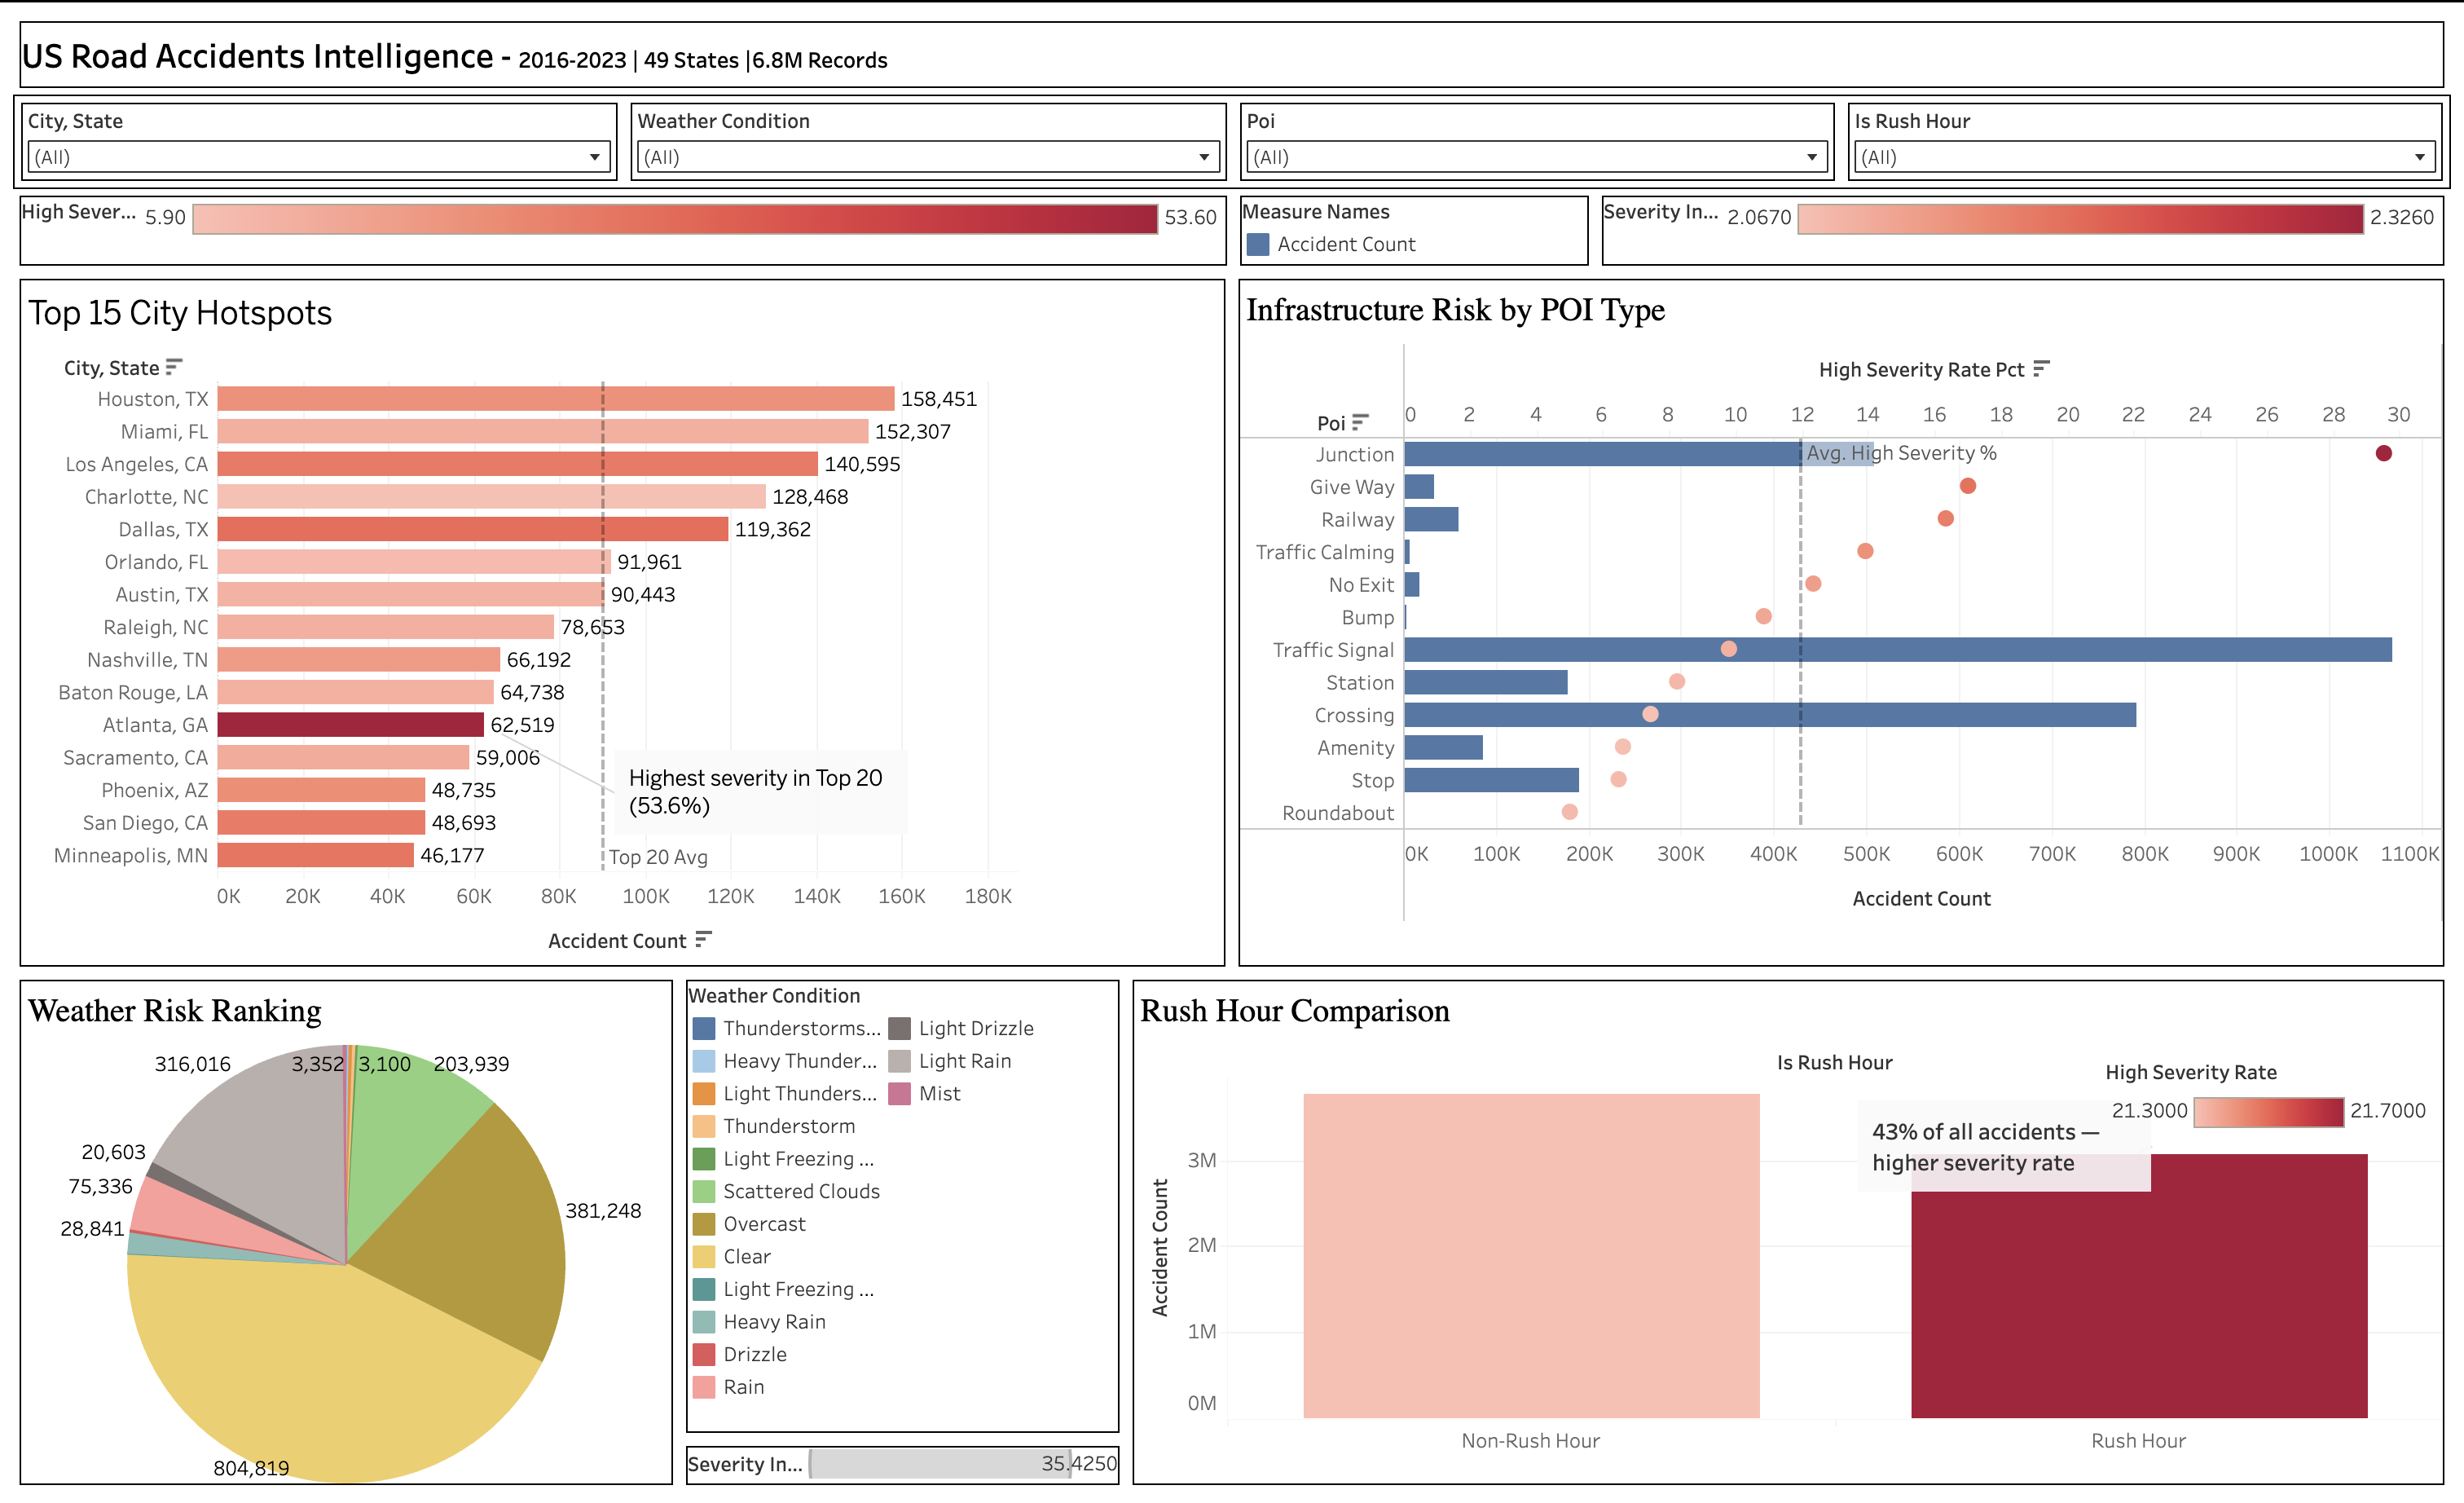

What the dashboard file says about the page in this screenshot:
{"tool":"tableau","page":{"name":"Dashboard 2","canvas":[1000,1000],"units":"permille","ordinal":1},"visuals":[{"type":"text","box":[6.4,9.3,987.2,57.2]},{"type":"filter","title":"Top 15 City Hotspots","param":"[federated.0jneq270983iii1dv6sha1ytug0k].[none:Calculation_4370828745777157:nk]","box":[7.2,67.7,247,65.3]},{"type":"filter","title":"Weather Risk Ranking","param":"[federated.1cgut1b17rxbs615b63tz1krf9w0].[none:weather_condition:nk]","box":[254.2,67.7,246.2,65.3]},{"type":"filter","title":"Infrastructure Risk by POI Type","param":"[federated.0glt0ar1gb2vox1bgq0sl1v5ow8e].[none:poi:nk]","box":[500.4,67.7,246.2,65.3]},{"type":"filter","title":"Rush Hour Comparison","param":"[federated.0b3kiio1dvg0961611c3r0l8f472].[none:is_rush_hour:nk]","box":[746.6,67.7,246.2,65.3]},{"type":"legend","title":"Top 15 City Hotspots","param":"[federated.0jneq270983iii1dv6sha1ytug0k].[sum:high_severity_rate:qk]","box":[6.4,134.2,494,59.2]},{"type":"legend","title":"Infrastructure Risk by POI Type","param":"[federated.0glt0ar1gb2vox1bgq0sl1v5ow8e].[:Measure Names]","box":[500.4,134.2,147.1,59.2]},{"type":"legend","title":"Infrastructure Risk by POI Type","param":"[federated.0glt0ar1gb2vox1bgq0sl1v5ow8e].[sum:severity_index:qk]","box":[647.5,134.2,346.2,59.2]},{"type":"worksheet","title":"Top 15 City Hotspots","mark":"Automatic","rows":["Calculation_4370828745777157"],"cols":["accident_count"],"box":[6.4,193.4,493.6,502]},{"type":"worksheet","title":"Infrastructure Risk by POI Type","mark":"Automatic","rows":["poi"],"cols":["accident_count","high_severity_rate_pct"],"box":[500,193.4,493.6,502]},{"type":"worksheet","title":"Weather Risk Ranking","mark":"Pie","box":[6.4,695.5,326.9,295.2]},{"type":"legend","title":"Weather Risk Ranking","param":"[federated.1cgut1b17rxbs615b63tz1krf9w0].[none:weather_condition:nk]","box":[333.3,695.5,219,257.9]},{"type":"worksheet","title":"Rush Hour Comparison","mark":"Automatic","rows":["accident_count"],"cols":["is_rush_hour"],"box":[552.3,695.5,441.3,295.2]},{"type":"legend","title":"Rush Hour Comparison","param":"[federated.0b3kiio1dvg0961611c3r0l8f472].[sum:high_severity_rate:qk]","box":[854.5,702.5,133.5,73.5]},{"type":"legend","title":"Weather Risk Ranking","param":"[federated.1cgut1b17rxbs615b63tz1krf9w0].[sum:severity_index:qk]","box":[333.3,953.3,219,37.3]}]}

Visuals, with their boxes on the dashboard's canvas, which has no fixed pixel size, in thousandths of its width and height (x1, y1, x2, y2). These are canvas units, not pixel positions in the 2464x1503 screenshot, which may show the page scaled, cropped or inside an application window:
text: rect(6, 9, 994, 66)
"Top 15 City Hotspots" filter: rect(7, 68, 254, 133)
"Weather Risk Ranking" filter: rect(254, 68, 500, 133)
"Infrastructure Risk by POI Type" filter: rect(500, 68, 747, 133)
"Rush Hour Comparison" filter: rect(747, 68, 993, 133)
"Top 15 City Hotspots" legend: rect(6, 134, 500, 193)
"Infrastructure Risk by POI Type" legend: rect(500, 134, 648, 193)
"Infrastructure Risk by POI Type" legend: rect(648, 134, 994, 193)
"Top 15 City Hotspots" worksheet: rect(6, 193, 500, 695)
"Infrastructure Risk by POI Type" worksheet: rect(500, 193, 994, 695)
"Weather Risk Ranking" worksheet (Pie marks): rect(6, 696, 333, 991)
"Weather Risk Ranking" legend: rect(333, 696, 552, 953)
"Rush Hour Comparison" worksheet: rect(552, 696, 994, 991)
"Rush Hour Comparison" legend: rect(854, 702, 988, 776)
"Weather Risk Ranking" legend: rect(333, 953, 552, 991)
